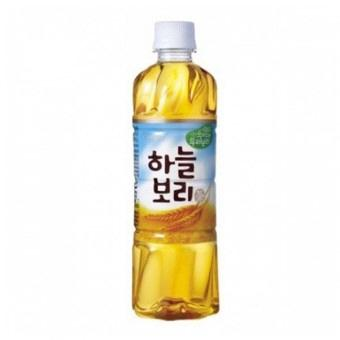haneulbori: (113, 22, 242, 320)
